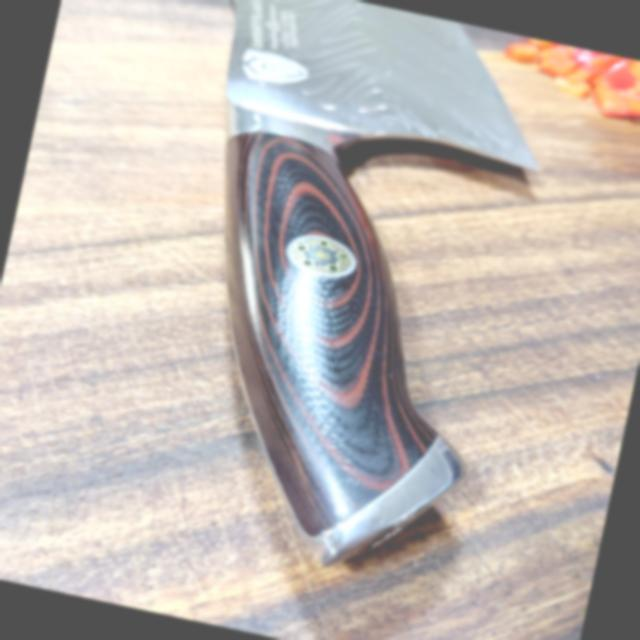cleaver: (110, 0, 564, 584)
